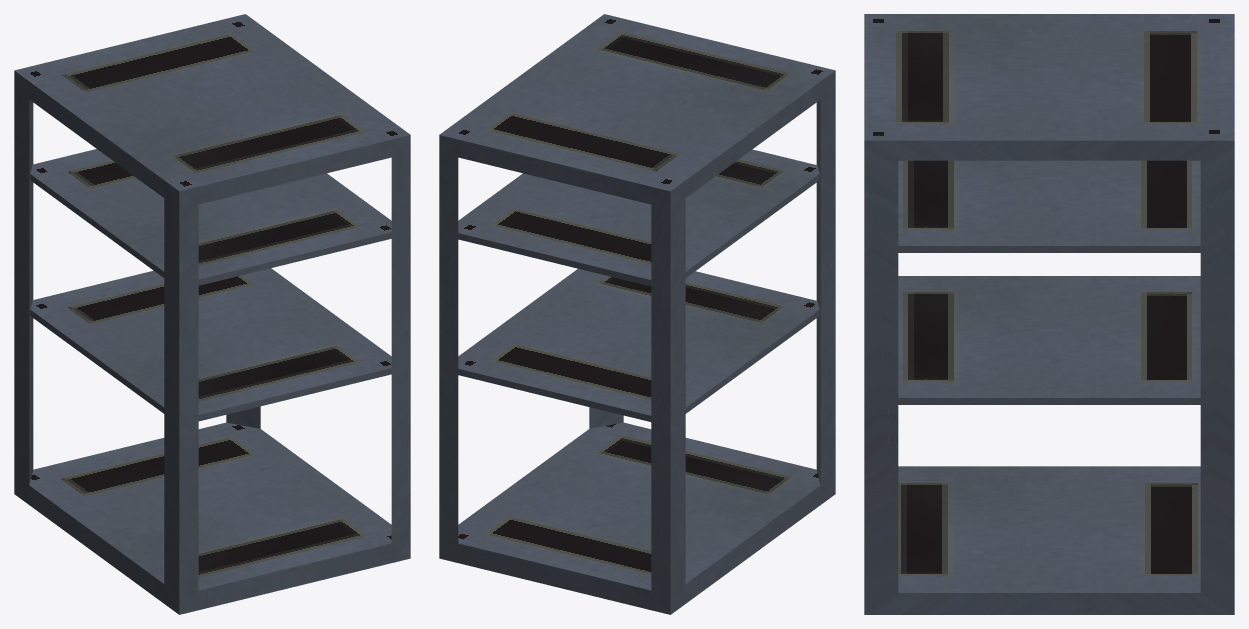
The model's file is serverrack3.fbx.
3 views of the same model, side by side, from view 1: azimuth 30°, elevation 25°; view 2: azimuth 150°, elevation 25°; view 3: azimuth 270°, elevation 25° (orthographic). The views are drawn at different scales.
Visible parts, largest first — view 1: rack03; view 2: rack03; view 3: rack03.
Part boxes in pixels (x1,y1,x2,y2): rack03: [14, 14, 410, 614]; rack03: [439, 14, 835, 614]; rack03: [864, 14, 1234, 614].
Size of the model in its own units: 122 by 213 by 151.
